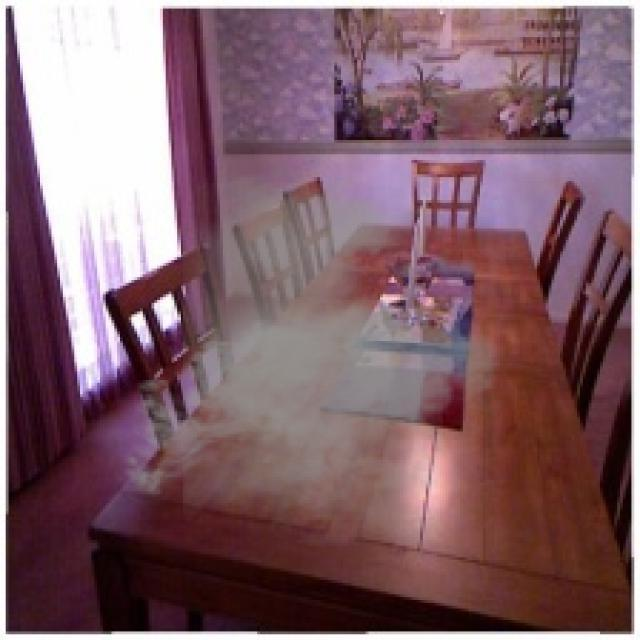Smoke: (112, 174, 514, 546)
